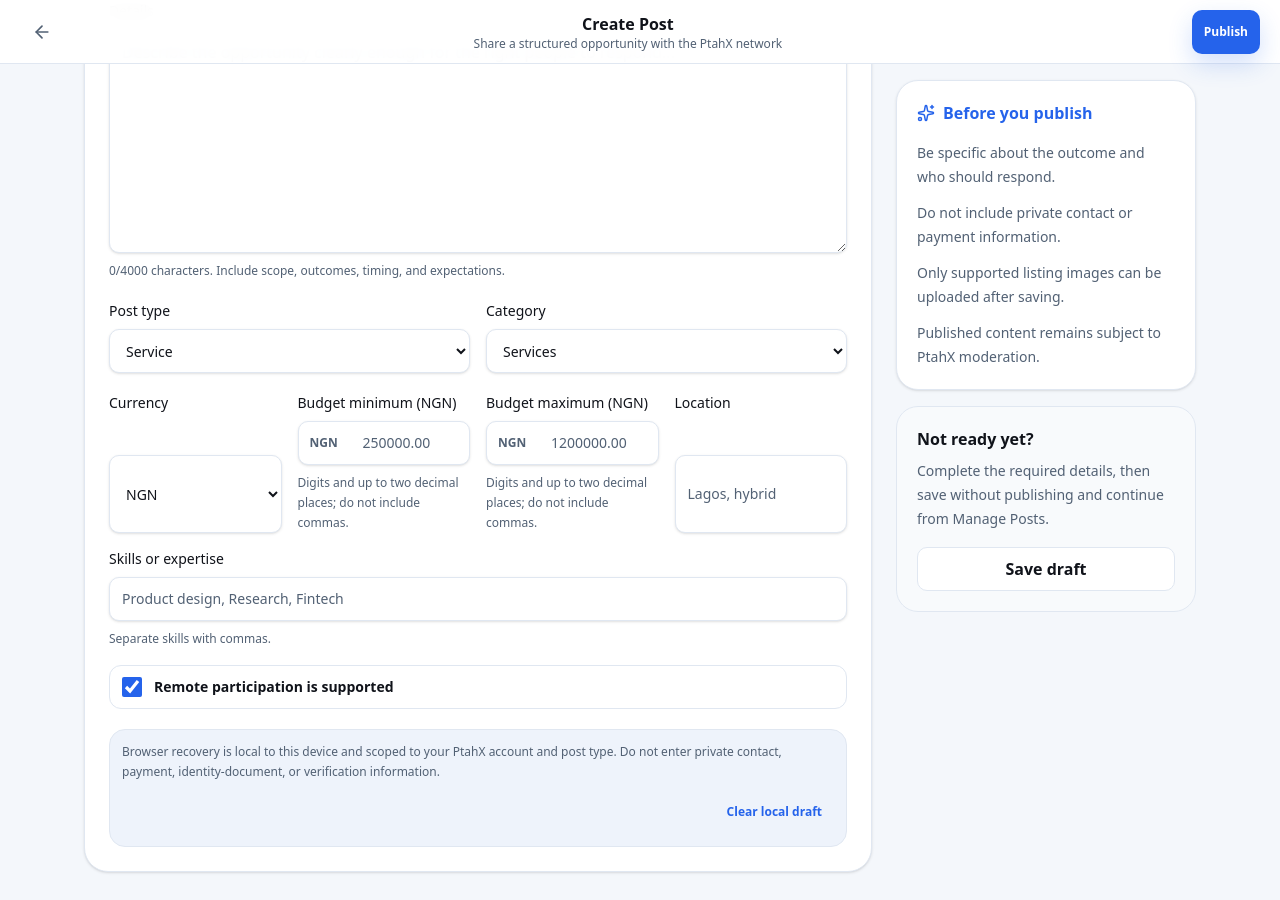
opportunity composer › treats changed select defaults as unsaved content
(page scrolled)
Select "USD" in the dropdown named "Currency" below "Currency". click: (195, 494)
box: [109,455,282,533]
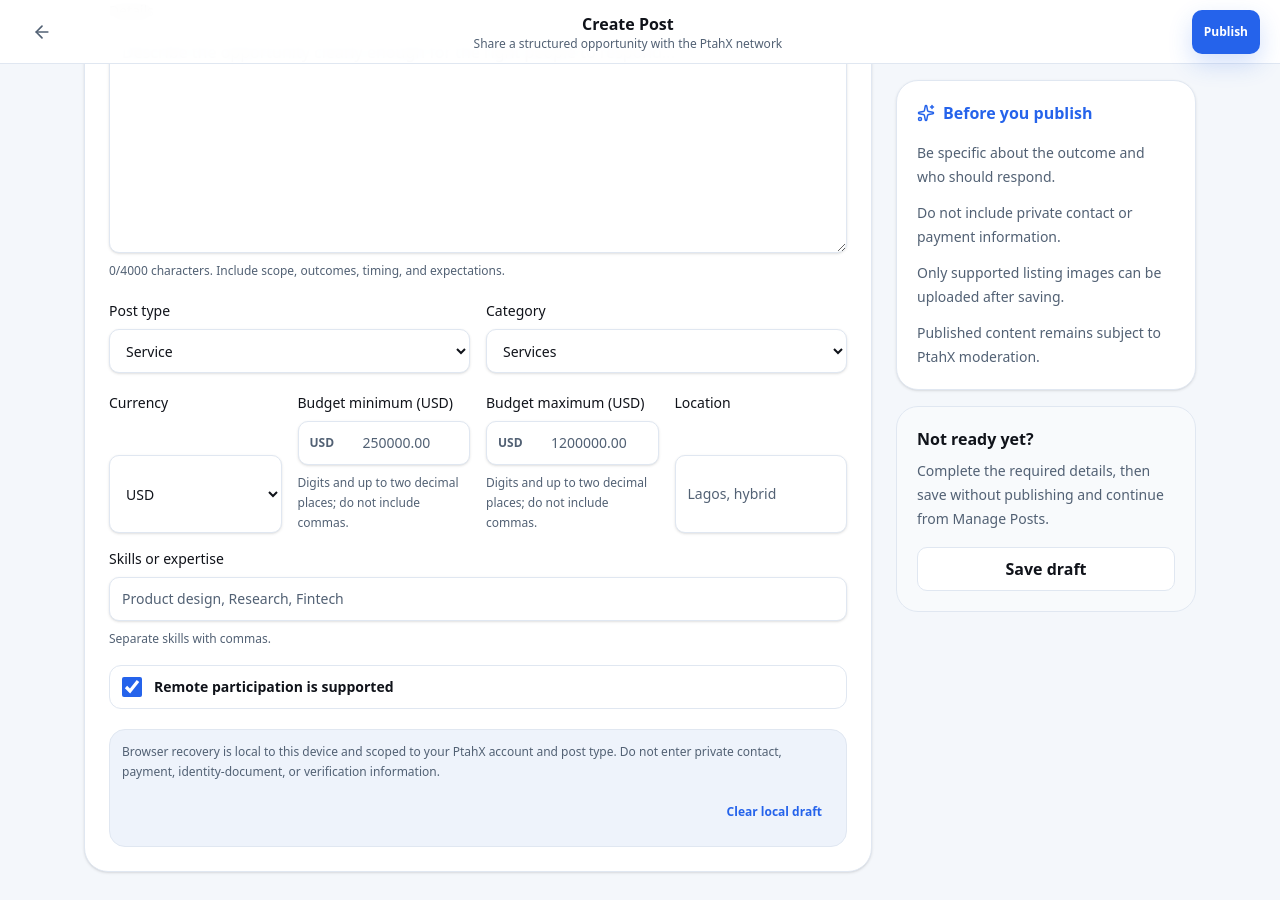
Click the button named "Back from Create Post". click: click(42, 32)
box: [20,10,64,54]
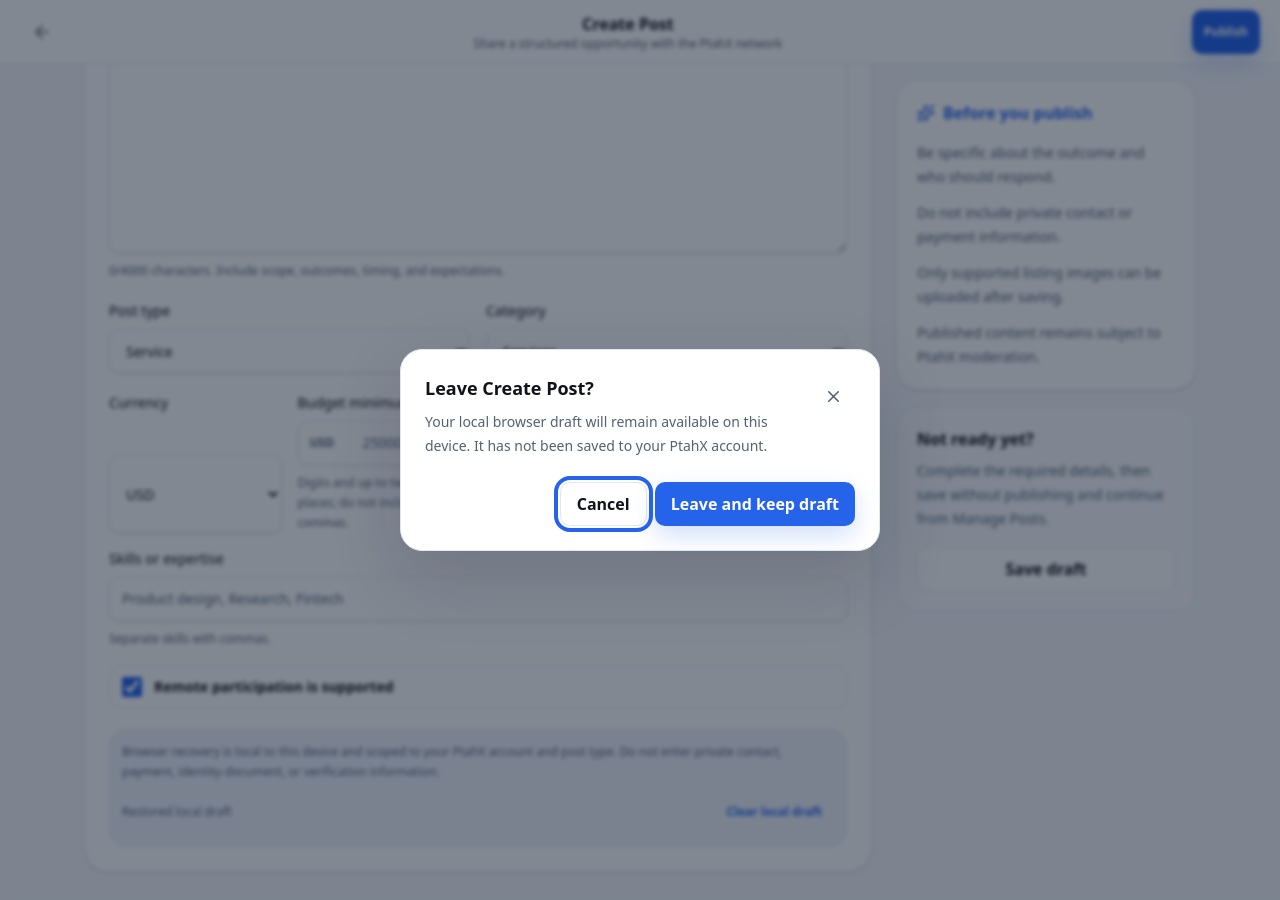
Check: the dialog "Leave Create Post?" is shown, box [400,349,880,551]
